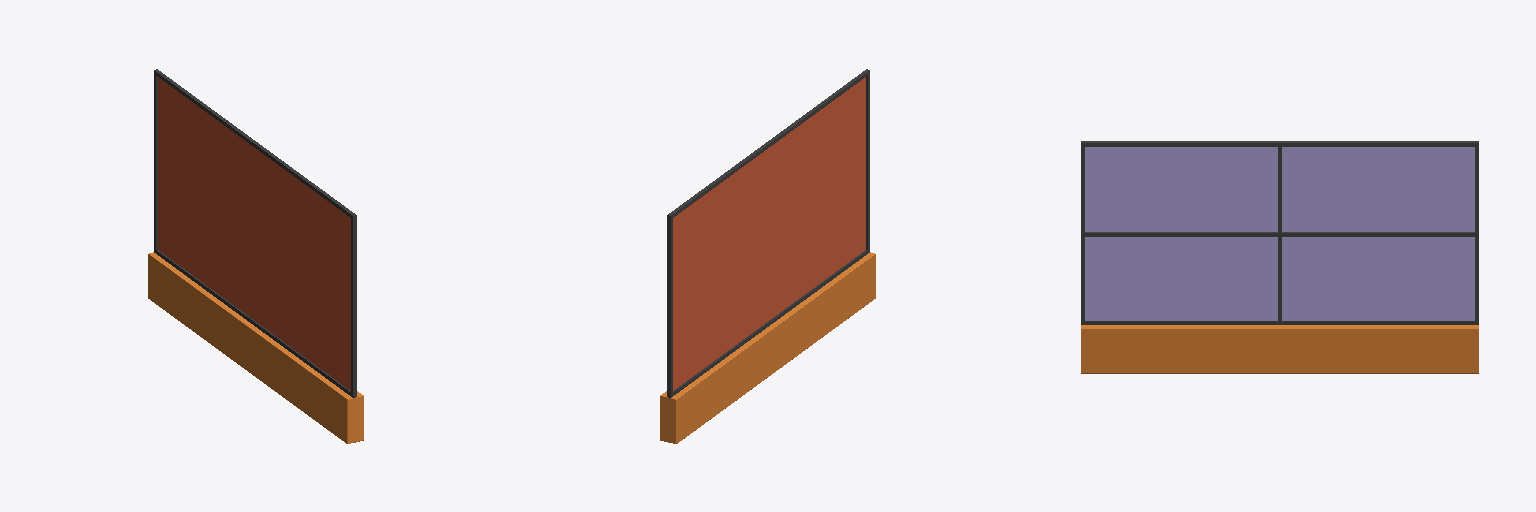
The model's file is fence.obj.
3 renders of one model, left to right at view 1: azimuth 30°, elevation 25°; view 2: azimuth 150°, elevation 25°; view 3: azimuth 270°, elevation 25°, orthographic.
Parts seen in each view (by area): view 1: Plane03, Plane53, Box160, Box726; view 2: Plane03, Plane53, Box160, Box726; view 3: Plane56, Plane57, Box160, Box726.
Part boxes in pixels (x1,y1,x2,y2): Plane03: (158,77,255,320); Plane53: (256,149,350,390); Box160: (148,252,363,443); Box726: (154,69,356,397); Plane03: (673,147,769,390); Plane53: (770,77,865,319); Box160: (660,252,875,443); Box726: (667,69,869,397); Plane56: (1085,147,1277,320); Plane57: (1282,147,1474,320); Box160: (1081,325,1478,373); Box726: (1081,141,1478,324).
Bounding box in the file's own units: 787 × 10454 × 16626.